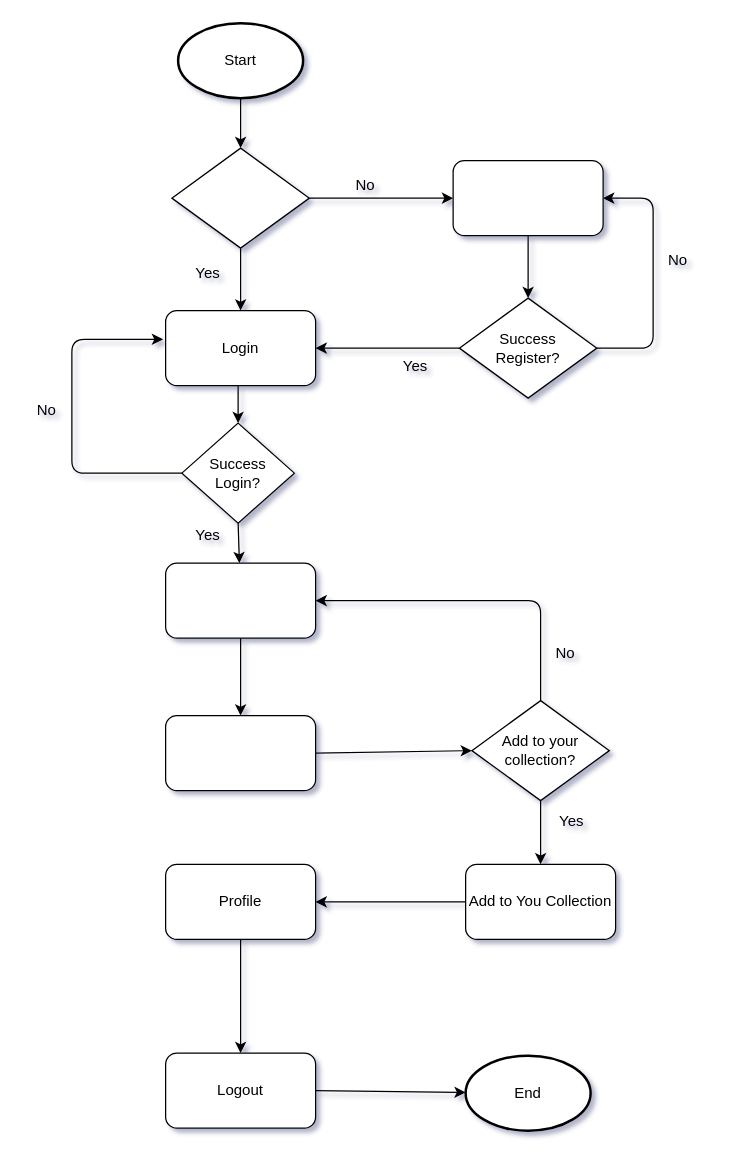
Some shapes in this 731 by 1160 pixel diagram are drawn without their labels. Each missing label, with the centre of its shape:
Go to Book Store: the point at 240,600
have a valid account?: the point at 240,197
Register: the point at 527,197
select a book: the point at 240,752
